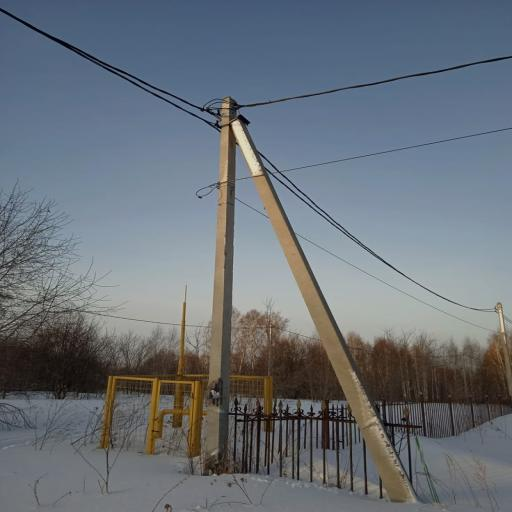chair: (101, 375, 207, 457)
phone: (204, 98, 235, 473), (496, 303, 511, 399)
